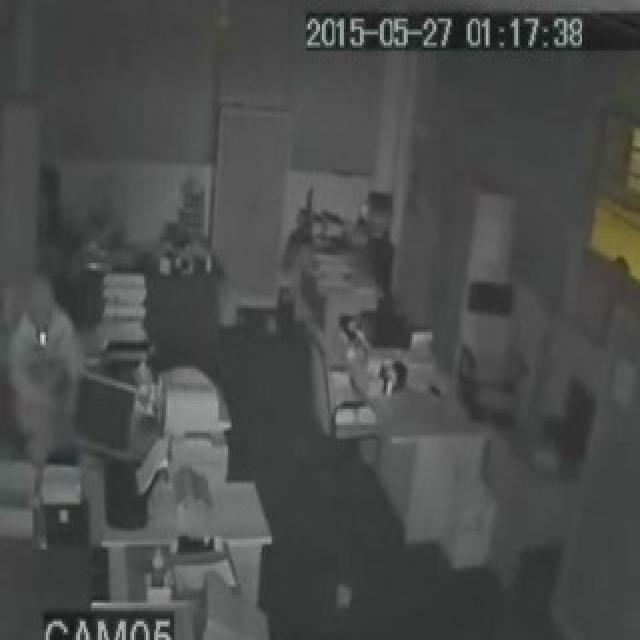thief: (5, 266, 91, 431)
